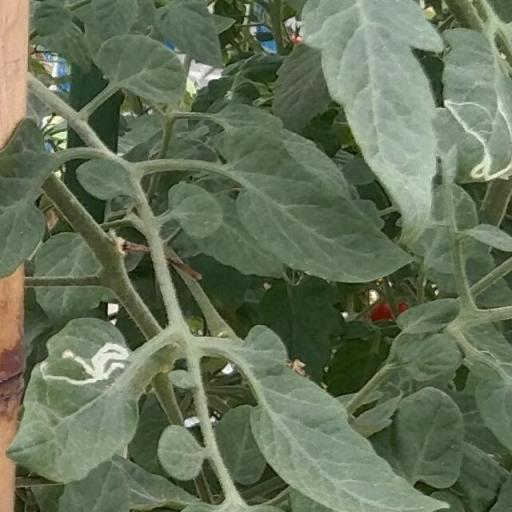Healthy: (245, 322, 449, 512), (297, 0, 443, 236), (219, 126, 417, 282), (92, 35, 188, 109)
Leaf Miner: (5, 315, 143, 485), (438, 22, 512, 184)
